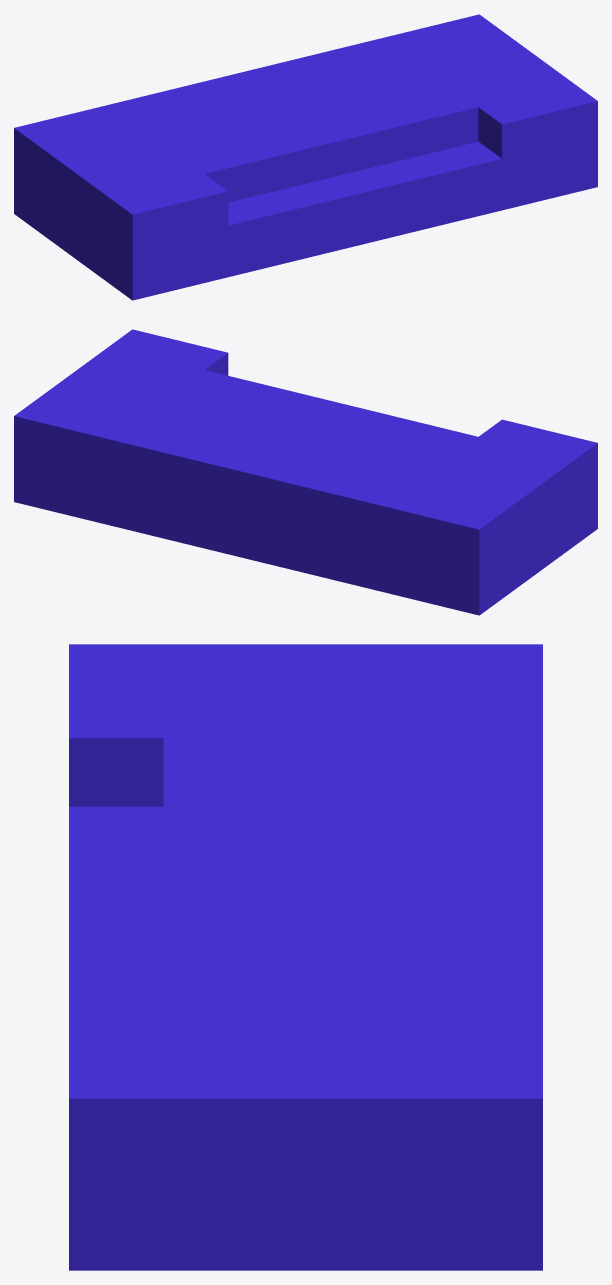
The model's file is SM_BasePlatform.fbx.
3 renders of one model, top to bottom at view 1: azimuth 30°, elevation 25°; view 2: azimuth 150°, elevation 25°; view 3: azimuth 270°, elevation 25°, orthographic. The views are drawn at different scales.
Parts seen in each view (by area): view 1: SM_BasePlatform; view 2: SM_BasePlatform; view 3: SM_BasePlatform.
Boxes of the visible parts, x1,y1,x2,y2 form: SM_BasePlatform: (14,14,597,300); SM_BasePlatform: (14,329,597,615); SM_BasePlatform: (69,644,542,1270).
Bounding box in the file's own units: 1700 × 300 × 750.
